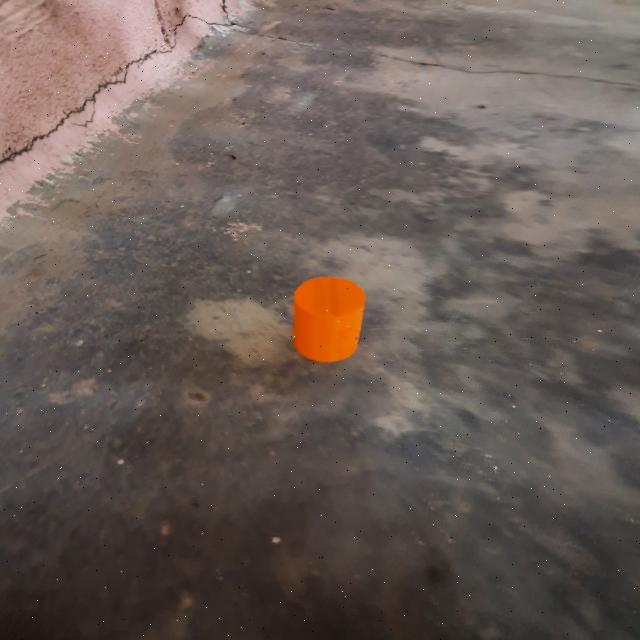Cylinder: (292, 276, 366, 362)
